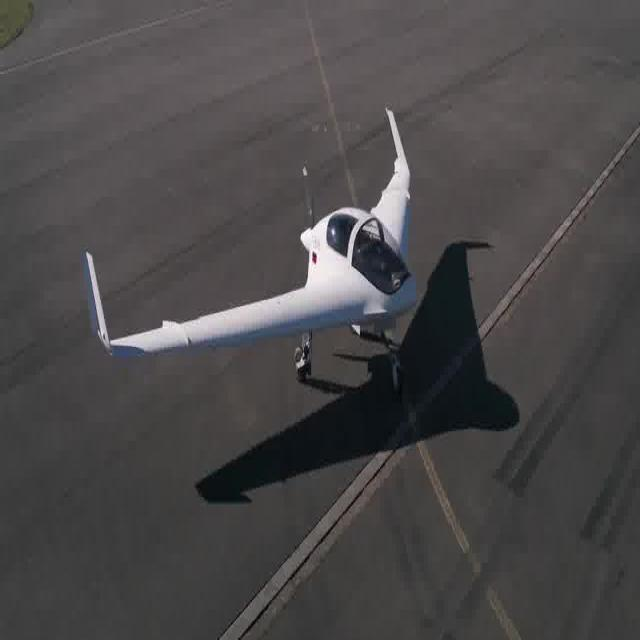iha: (79, 82, 423, 464)
